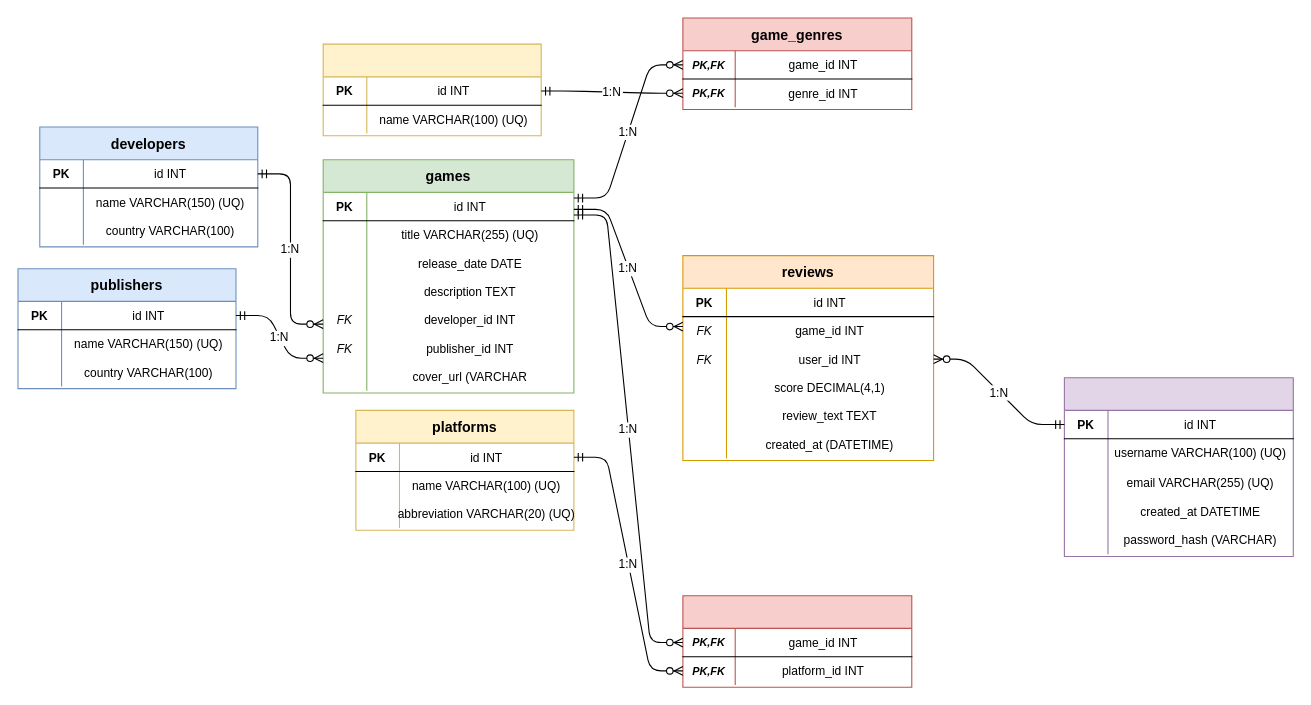
Some shapes in this 1311 by 705 pixel diagram are drawn without their labels. Here are the shapes that lost their labels. From the top down, the box of each, then its label:
(322, 43, 541, 136): genres
(1063, 377, 1293, 556): users
(682, 595, 912, 687): game_platforms
